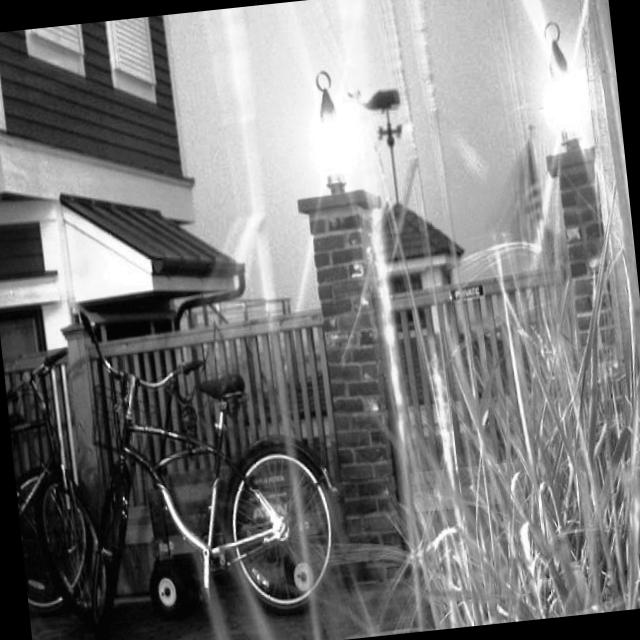Bicycle: (64, 264, 350, 627), (0, 326, 120, 626)
